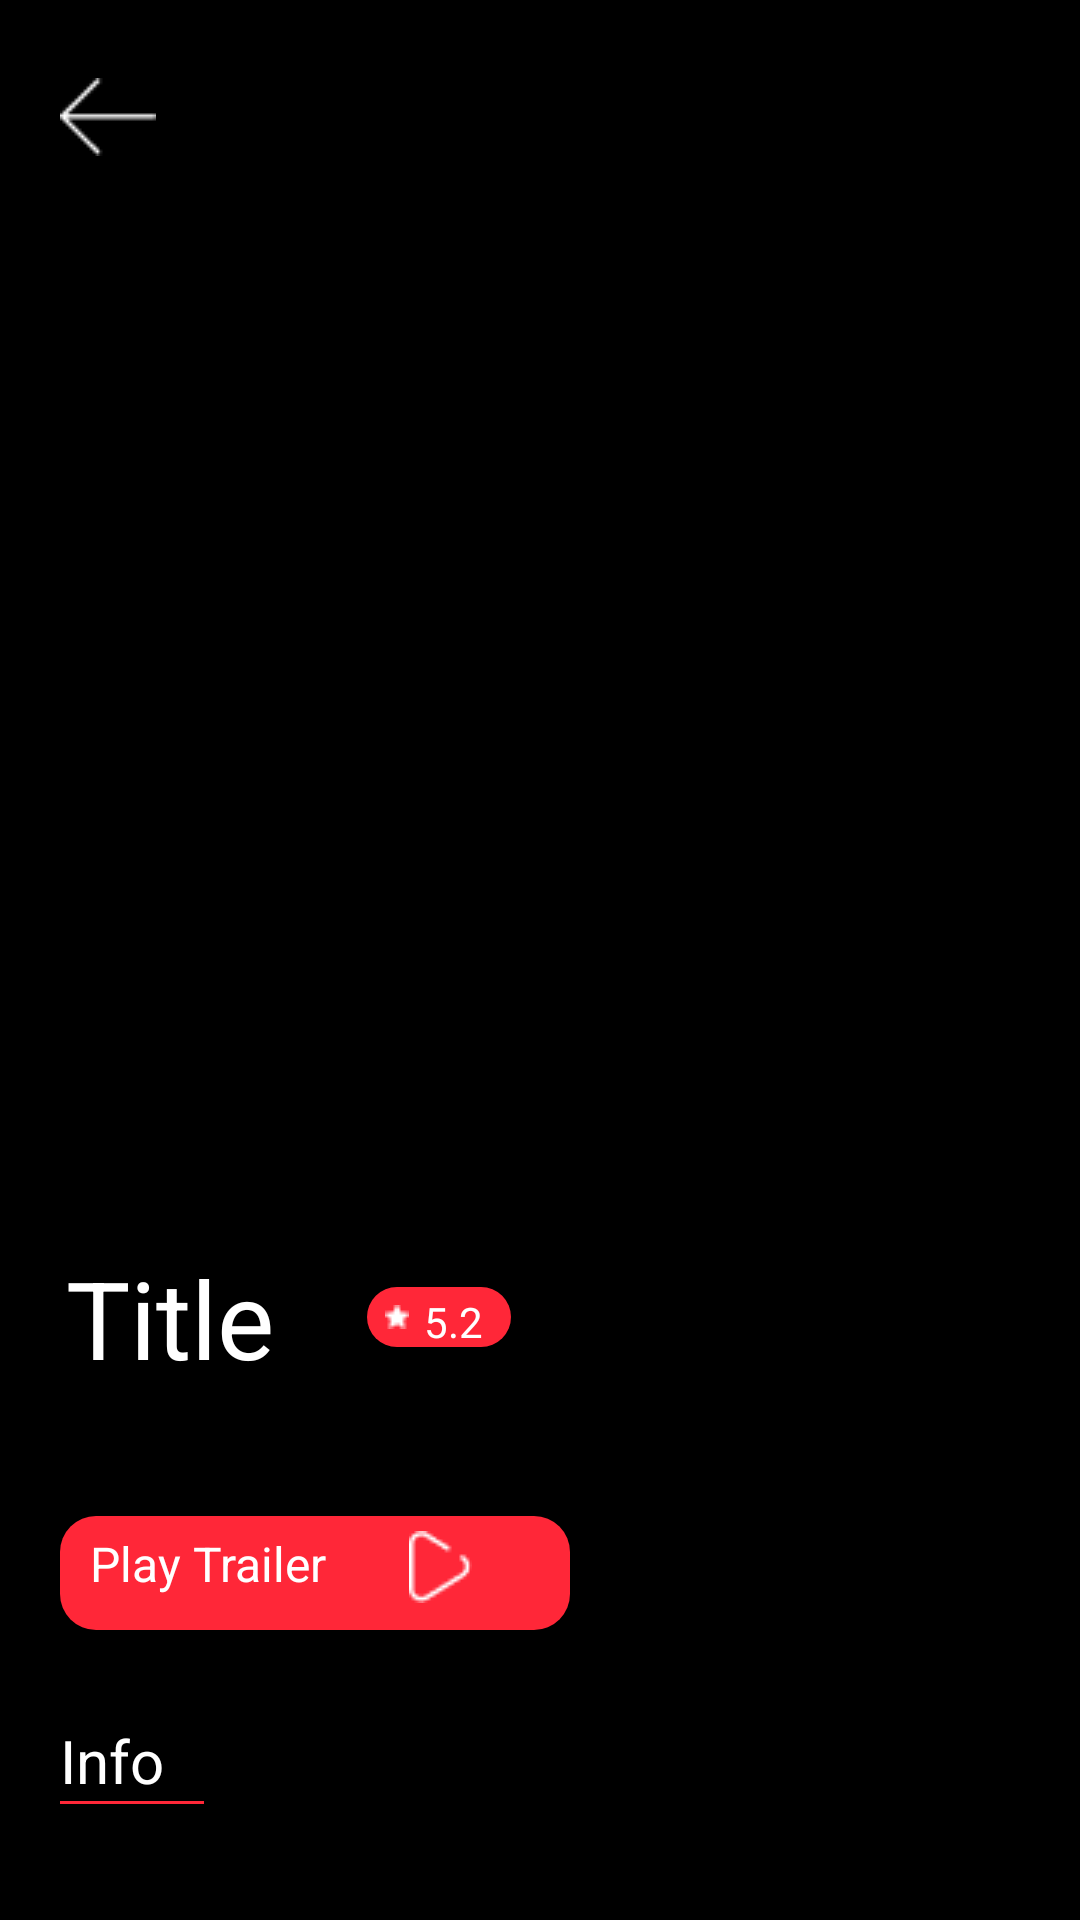

Screen size 1080w x 1920h. Icon name, then its box in pixels as BBox(x1, y1, x2, y2):
arrow: BBox(60, 78, 156, 156)
star: BBox(385, 1305, 409, 1329)
